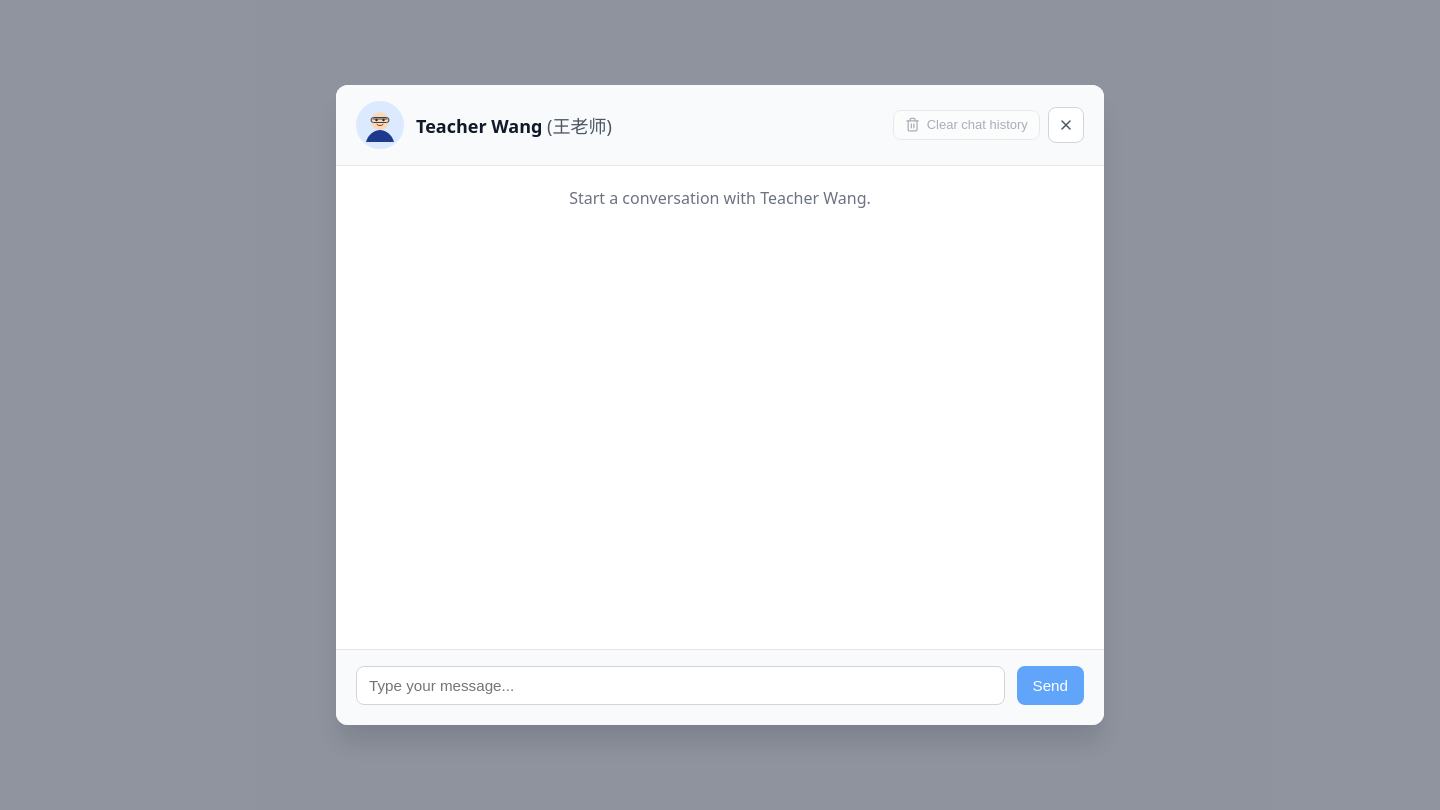
Test: ChatModal › sends a message and displays the assistant reply
The image size is (1440, 810).
Expected: the text "Start a conversation with Teacher Wang." is shown, 569,187 -> 871,209
Type "Hello" into the field labelled "message". click: (680, 686)
box: 356,666 -> 1004,705
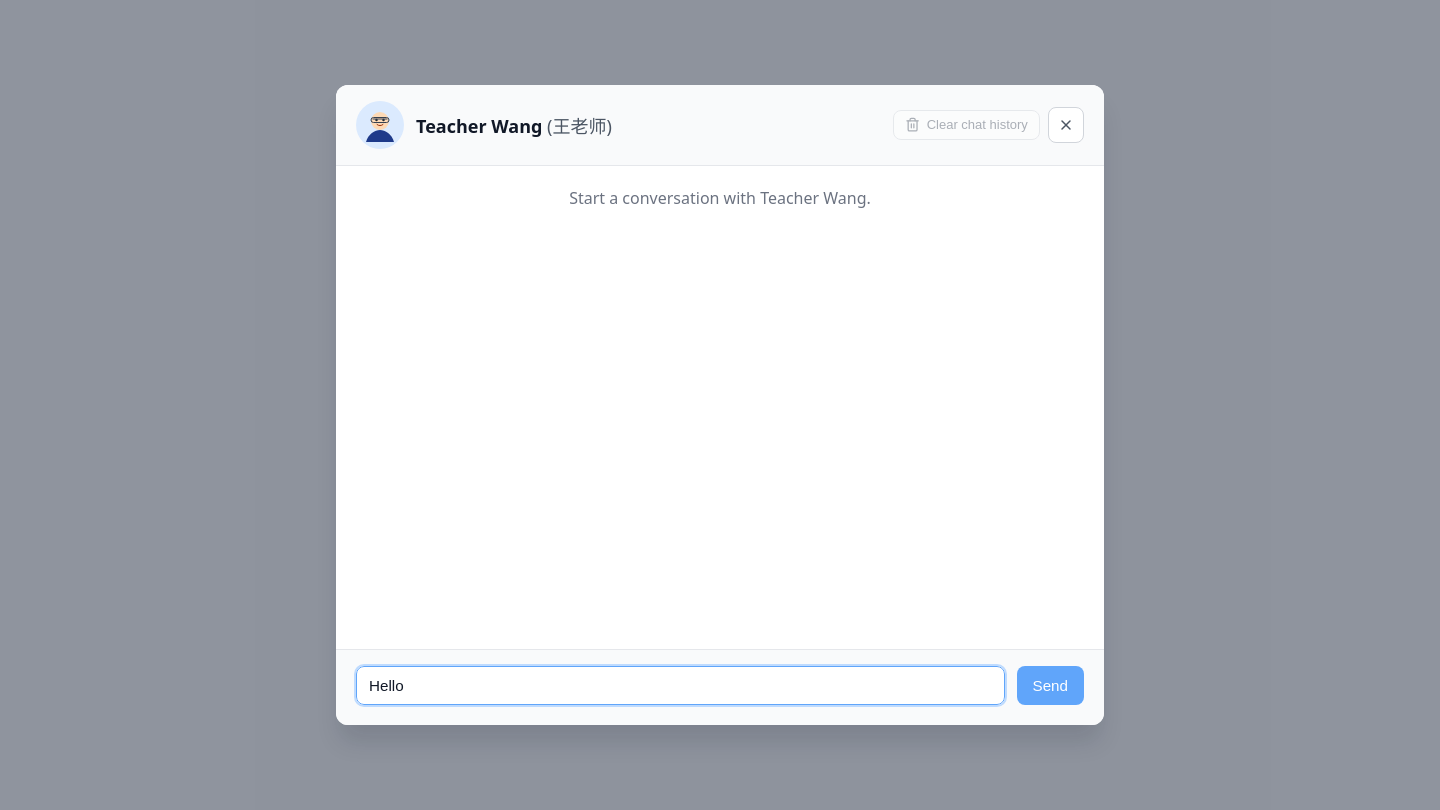
Click the button "Send". click: (1050, 686)
box: 1016,666 -> 1084,705
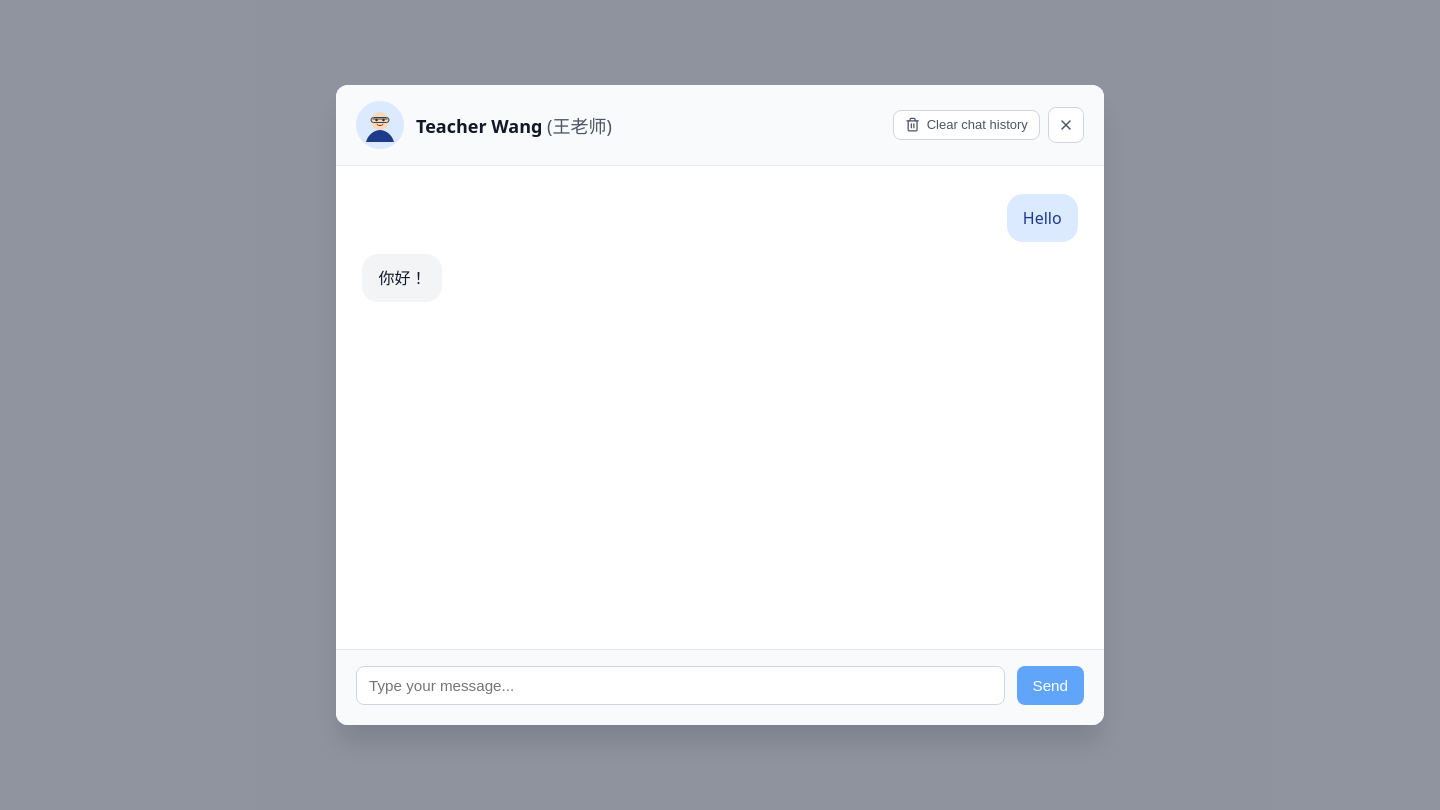
Now the text "Hello" is shown, box 1007,194 -> 1078,242
Now the text "你好！" is shown, box 362,254 -> 442,302
